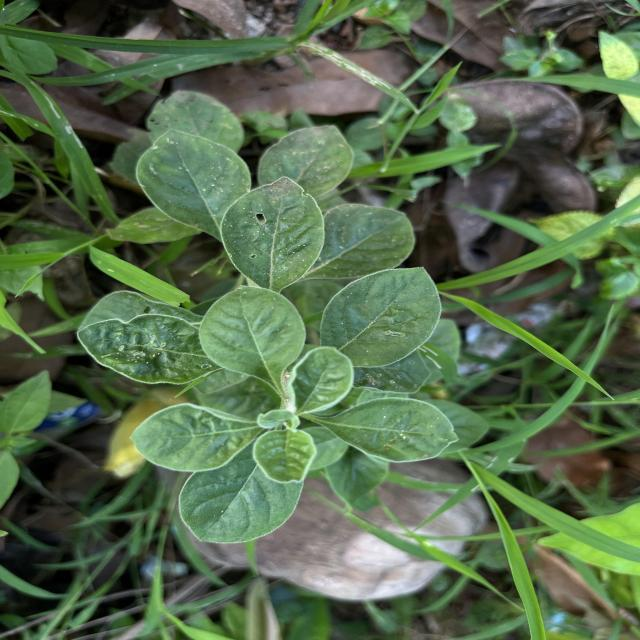Aerva lanata: (176, 436, 306, 546), (318, 265, 444, 370), (218, 174, 328, 292)
